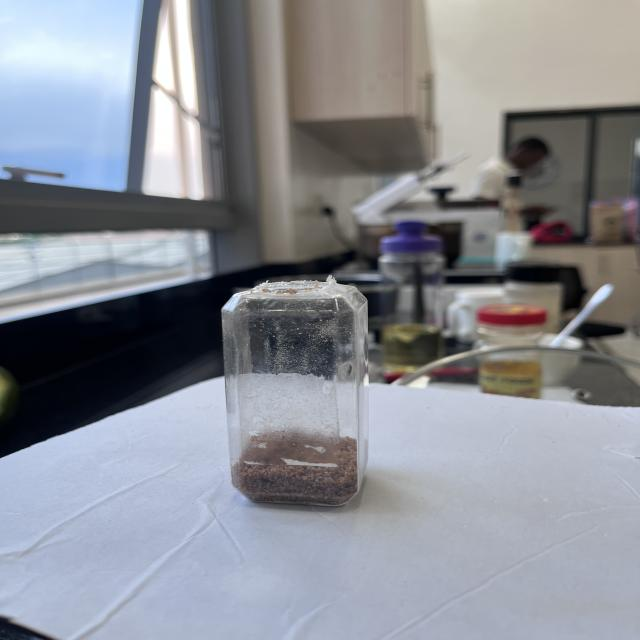maggie_open: (233, 427, 356, 505)
